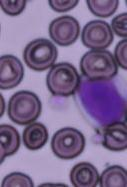L: (73, 75, 126, 128)
